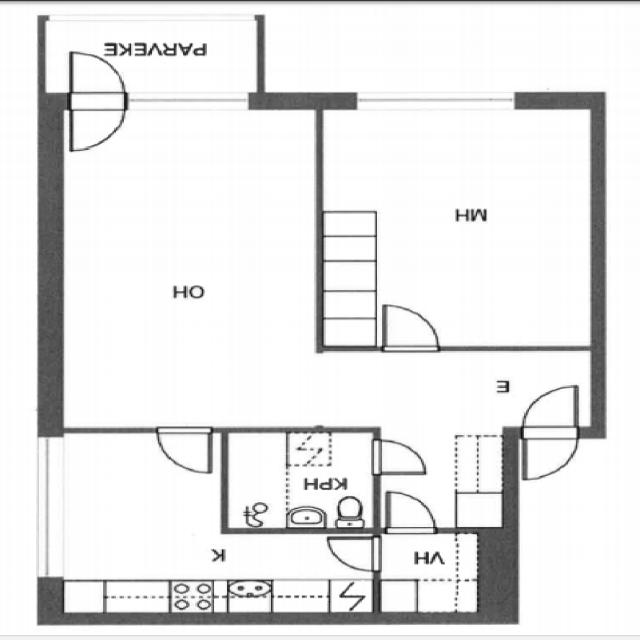door: (61, 48, 130, 157), (512, 381, 584, 483), (373, 297, 449, 355), (148, 421, 218, 479), (363, 433, 438, 480), (379, 487, 443, 538), (321, 531, 384, 575), (280, 442, 333, 471)
window: (26, 427, 76, 592), (348, 84, 520, 120), (123, 86, 258, 118)
zone: (50, 98, 323, 430), (316, 94, 600, 354), (32, 530, 374, 624), (225, 430, 380, 534), (380, 530, 483, 620)
